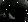person: (10, 9, 15, 19), (4, 10, 9, 19)
